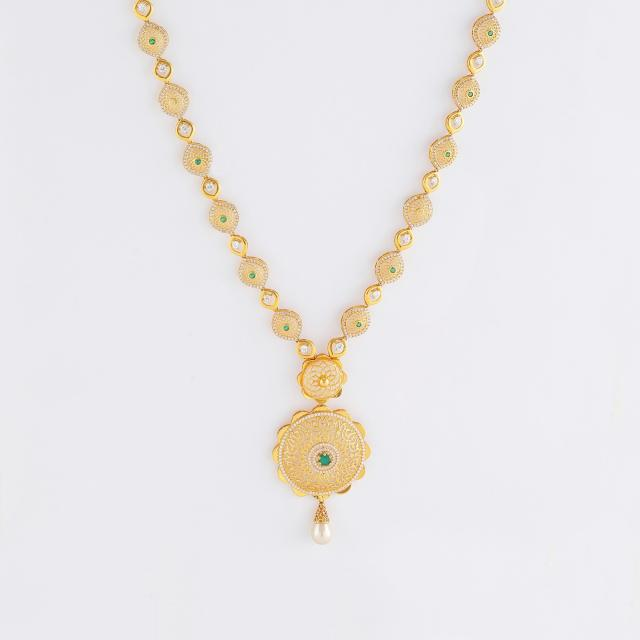missing gem: (169, 99, 177, 106), (417, 209, 424, 215)
